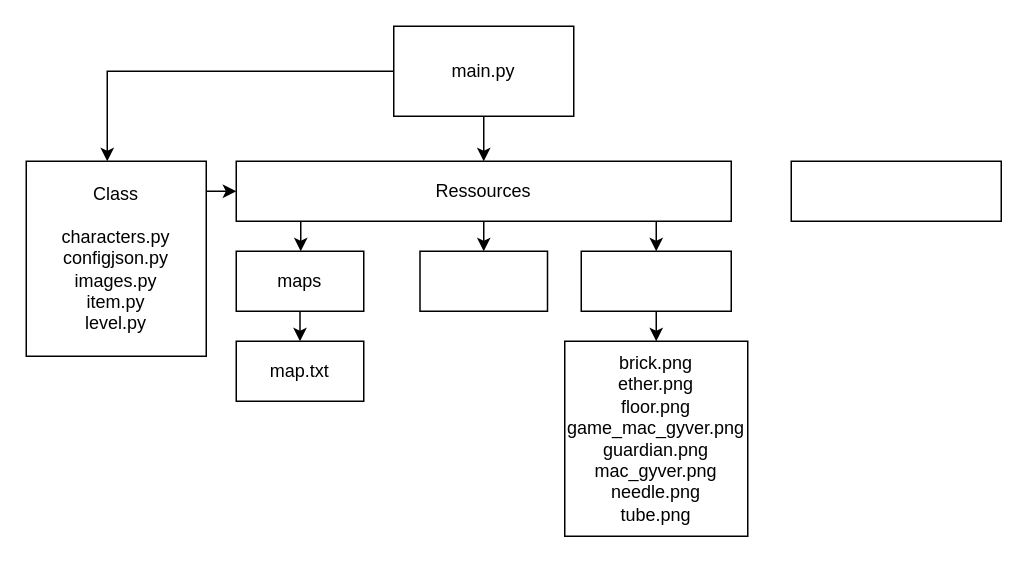
This 1028x563 diagram has some shape labels left out. Each missing label, with the centre of its shape:
"config.json" goes at pixel 483 280.
"doc" goes at pixel 895 190.
"pictures" goes at pixel 655 280.
